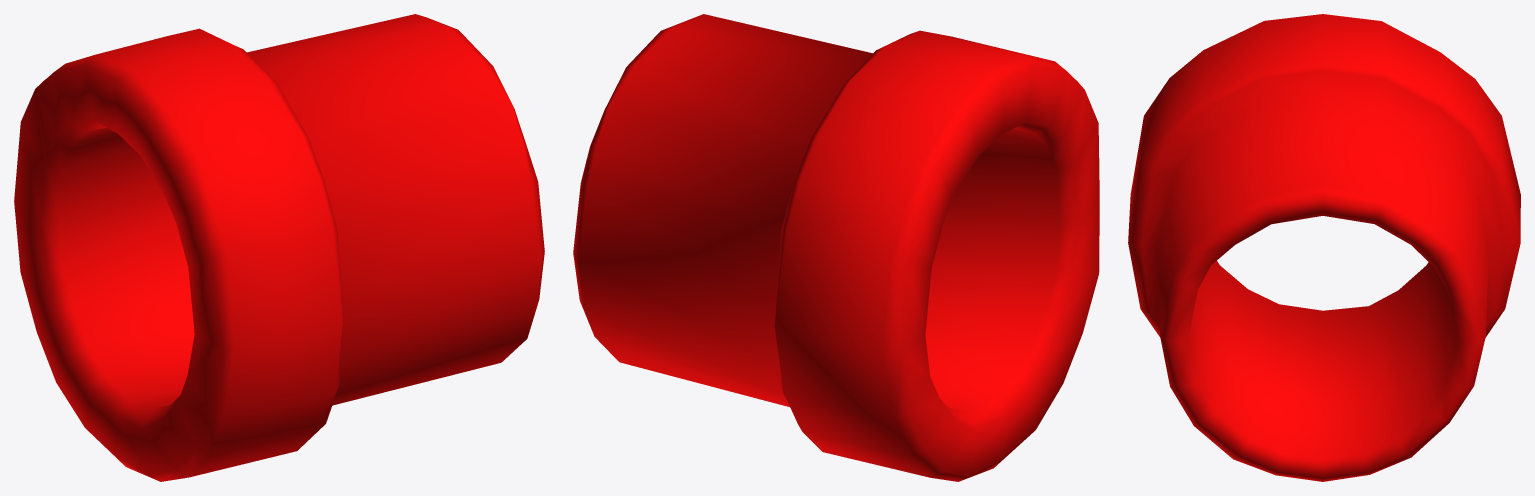
The model's file is tuyau_lowPoly.fbx.
The picture shows the model from 3 angles, left to right: view 1: azimuth 30°, elevation 25°; view 2: azimuth 150°, elevation 25°; view 3: azimuth 270°, elevation 25°; orthographic projection. The views are drawn at different scales.
Parts seen in each view (by area): view 1: BSurfaceMesh; view 2: BSurfaceMesh; view 3: BSurfaceMesh.
Boxes of the visible parts, x1,y1,x2,y2 form: BSurfaceMesh: [14, 14, 544, 481]; BSurfaceMesh: [573, 14, 1099, 481]; BSurfaceMesh: [1128, 14, 1520, 481].
Size of the model in its own units: 97.9 by 108 by 107.
